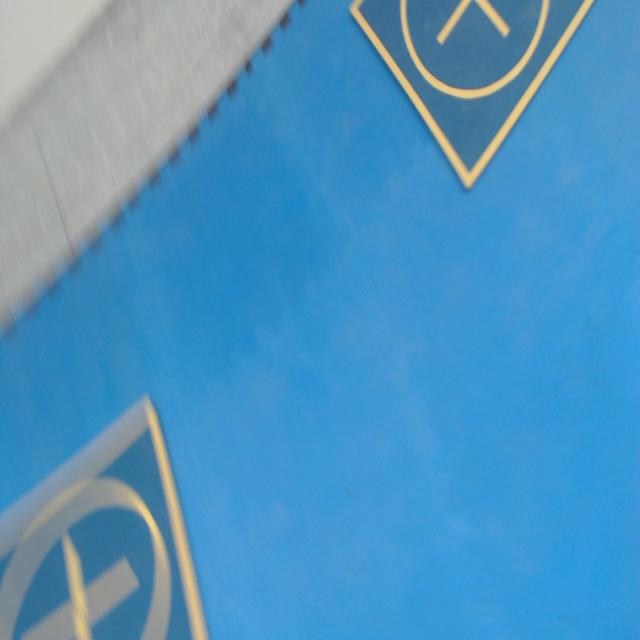base_pouso: (0, 392, 209, 639), (347, 0, 596, 193)
